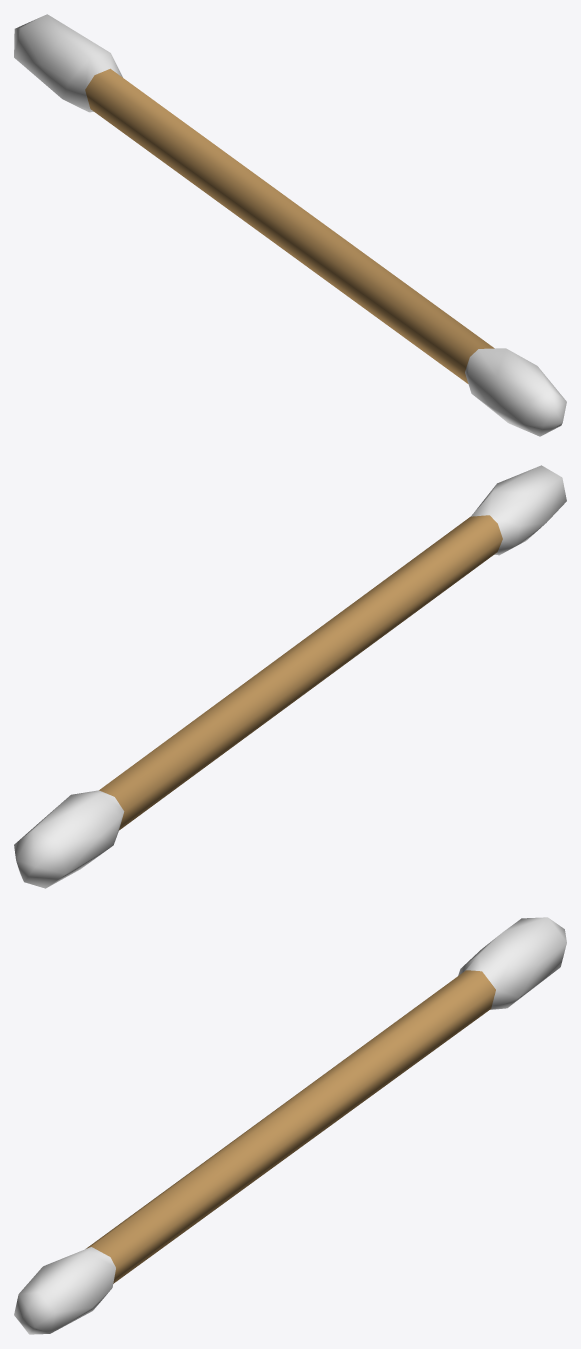
File: CottonSwab.fbx
3 views of the same model, one above another, from view 1: azimuth 30°, elevation 25°; view 2: azimuth 150°, elevation 25°; view 3: azimuth 330°, elevation 25° (orthographic).
Parts seen in each view (by area): view 1: Cotton Swab; view 2: Cotton Swab; view 3: Cotton Swab.
Part boxes in pixels (bbox=[...]): Cotton Swab: bbox=[14, 14, 566, 436]; Cotton Swab: bbox=[14, 465, 566, 888]; Cotton Swab: bbox=[14, 917, 566, 1334].
Bounding box in the file's own units: 0.4838 × 0.4874 × 7.5.
